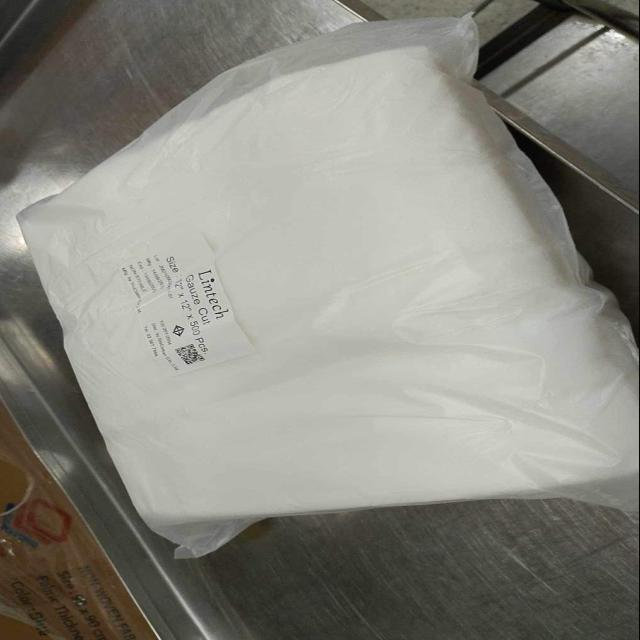General: (15, 12, 638, 560)
